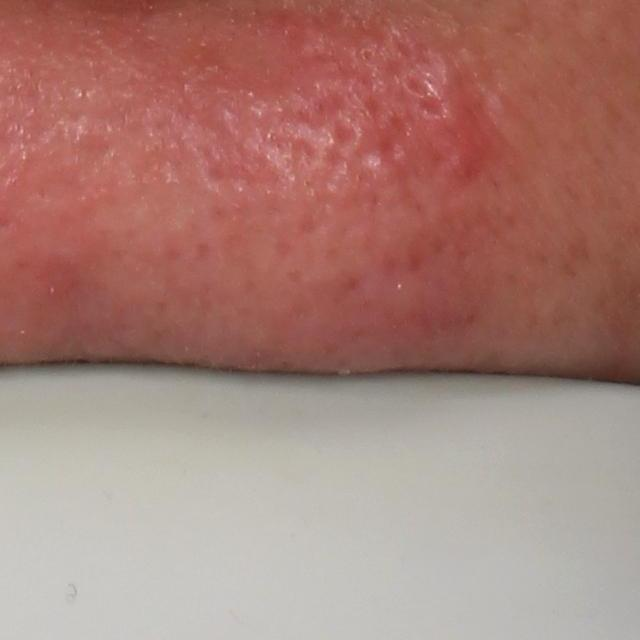papule: (422, 70, 500, 184)
